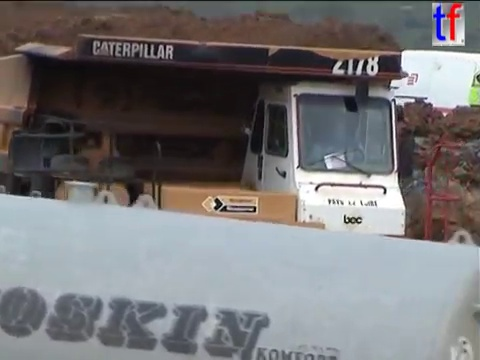truck: (1, 29, 469, 360), (1, 175, 480, 360)
worker: (467, 60, 480, 136)
